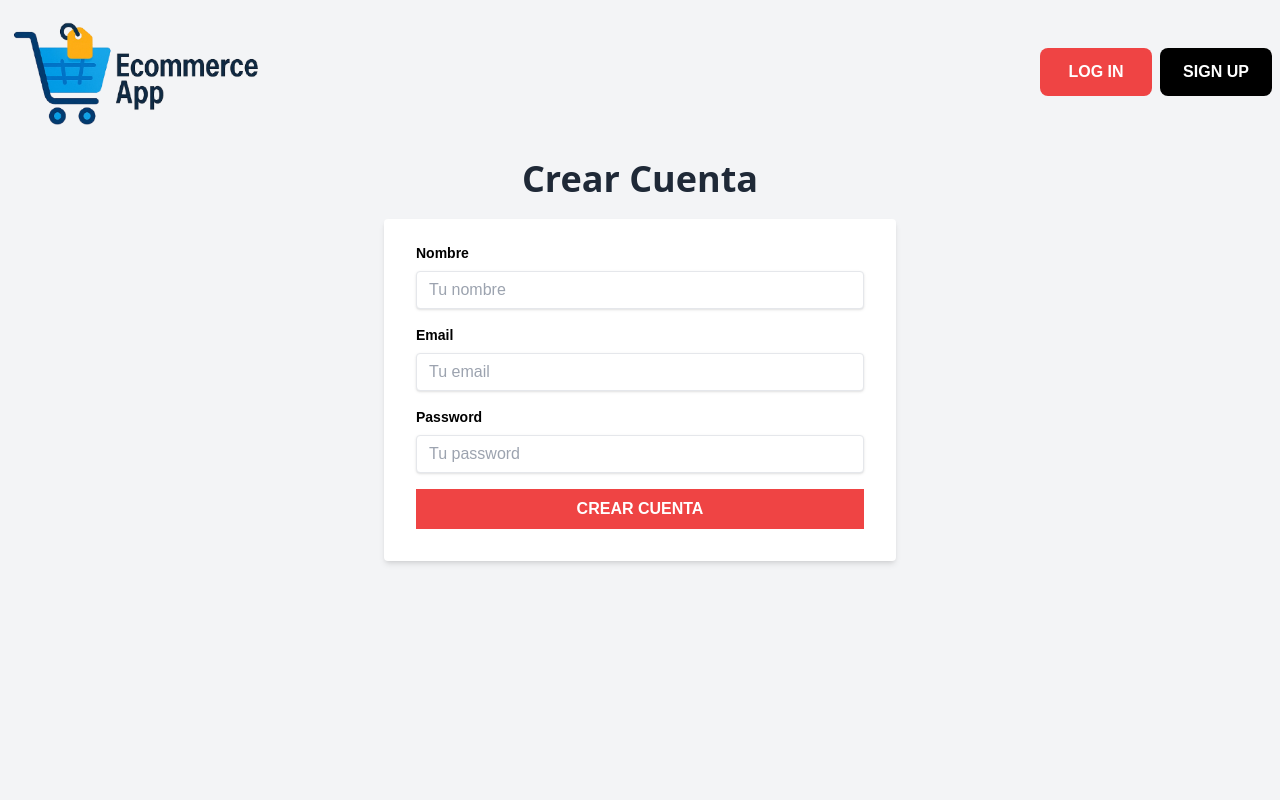
Scenario: <Registro/> Pruebas registro › <Registro/> Registro exitoso
In the field with test id "registro-nombre": (640, 290) [416, 271, 864, 309], type "Nuevo Usuario"
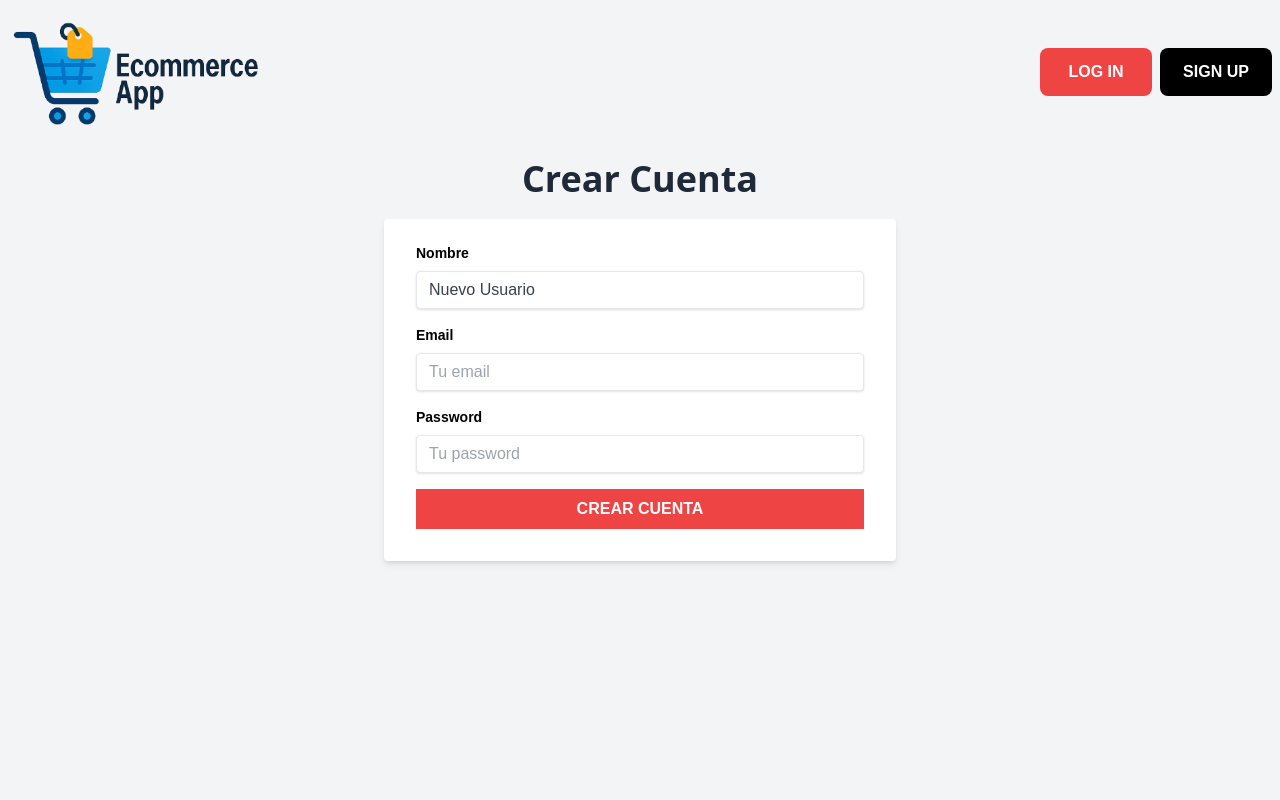
In the field with test id "registro-email": (640, 372) [416, 353, 864, 391], type "nuevo@correo.com"
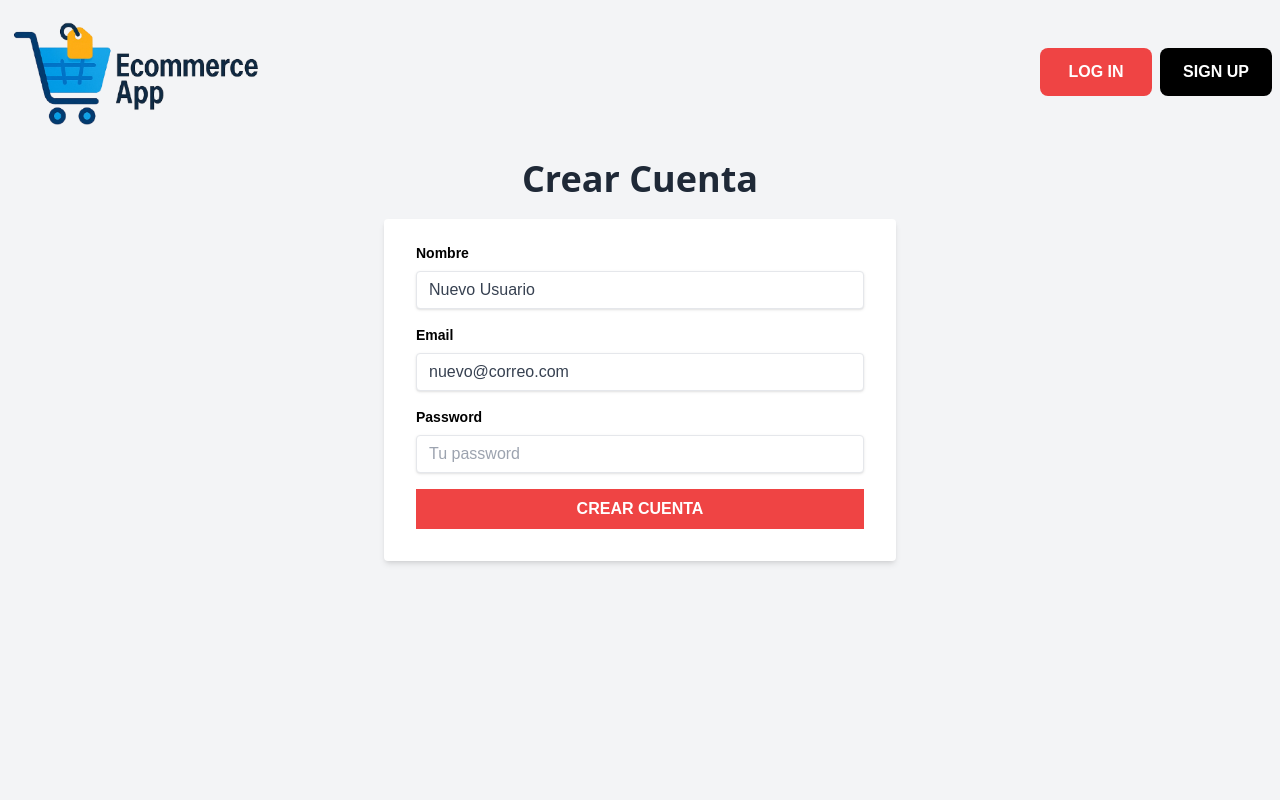
In the password field with test id "registro-password": (640, 454) [416, 435, 864, 473], type "123456"
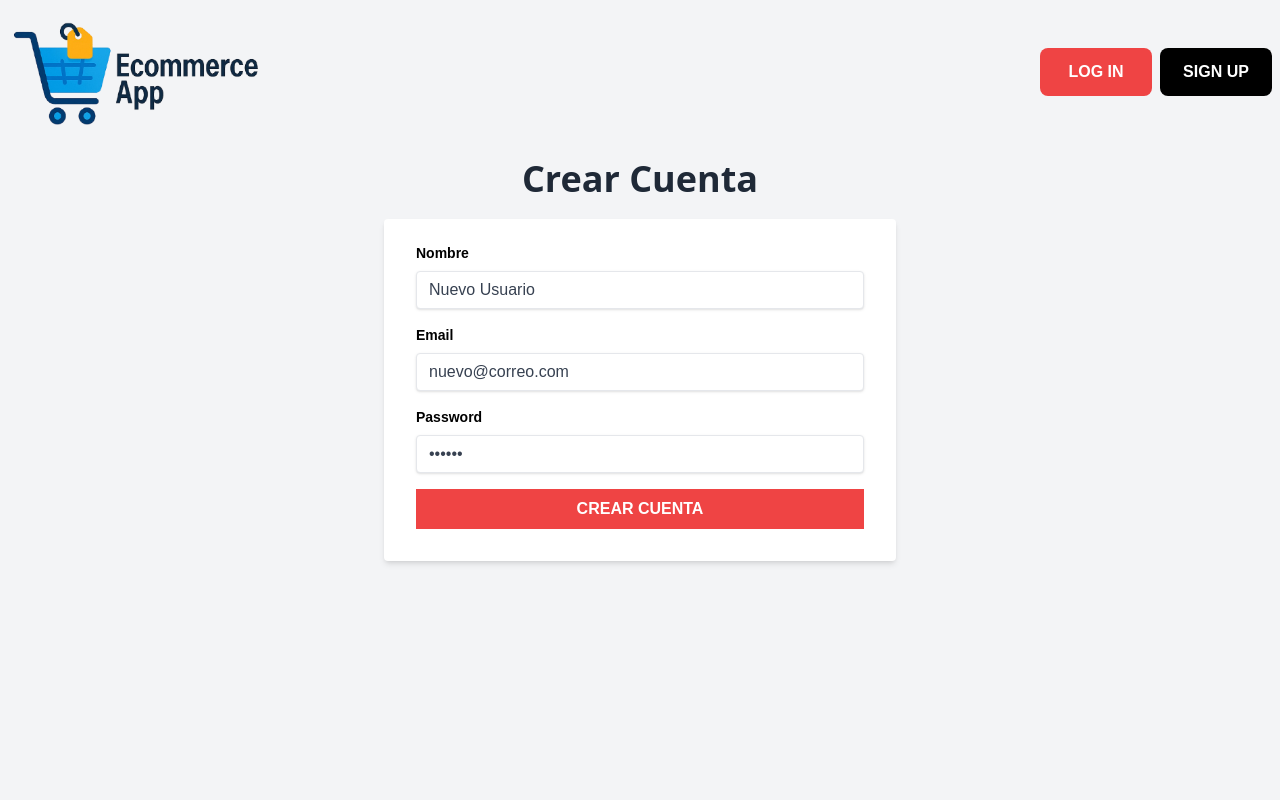
Click the button with test id "registro-submit": (640, 509) [416, 489, 864, 529]
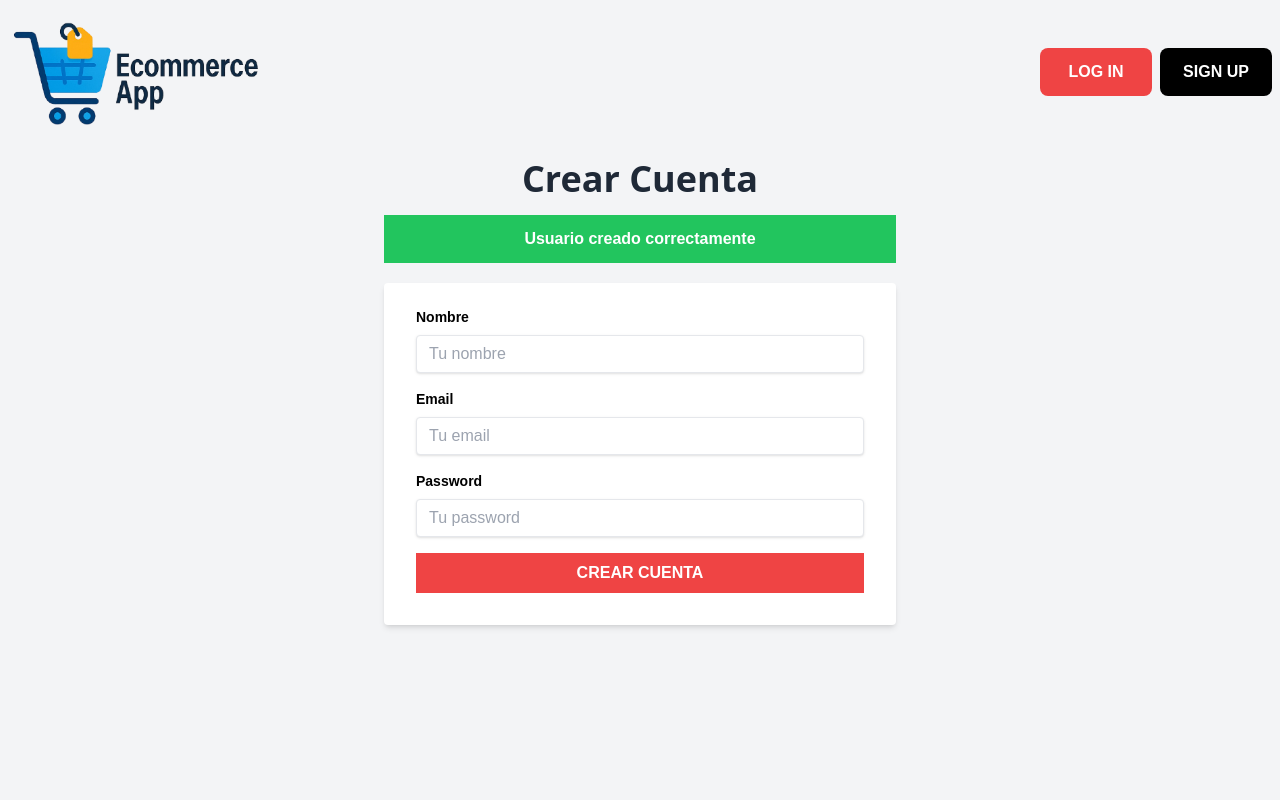
Expected: the text with test id "alerta" reads "Usuario creado correctamente", [384, 215, 896, 263]
